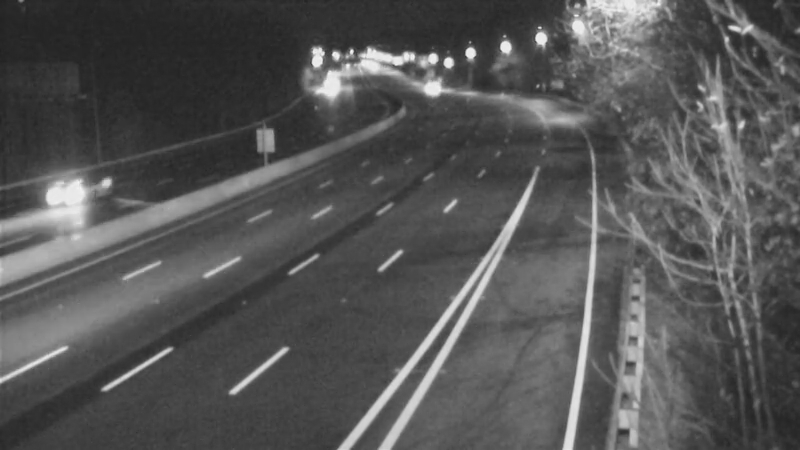vehicle: (40, 150, 120, 230), (400, 63, 450, 113), (309, 61, 359, 111)
